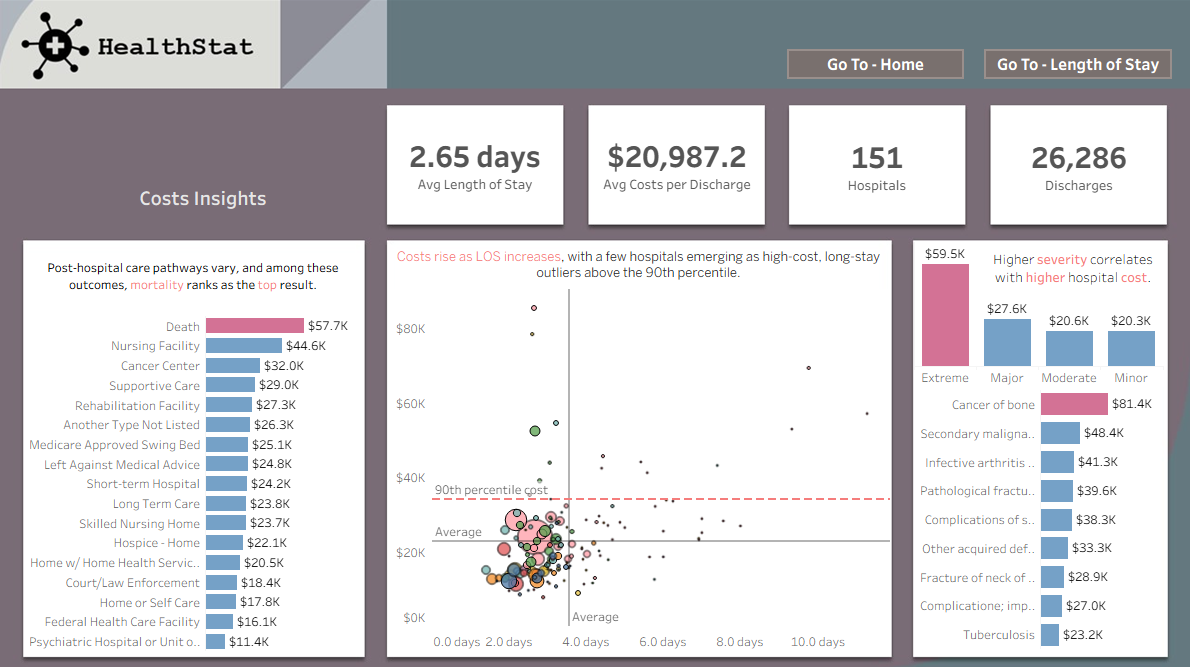

Layout of this report page (visuals, bound fields, positions):
{"tool":"tableau","page":{"name":"Costs Dashboard","canvas":[1200,700],"ordinal":0},"visuals":[{"type":"image","param":"C:/Users/drew_/Desktop/DATA/Data Camp/Data Analyst in Tableau/Learn - Course - P","box":[4,4,1194,690]},{"type":"legend","title":"Quadrant Chart","param":"[federated.0fxm5sd0du2w4c1f8f5pv1r6fbfv].[__tableau_internal_object_id__].[cnt:p","box":[1032,8,160,146]},{"type":"dashboard-object","box":[793,63,177,30]},{"type":"dashboard-object","box":[990,63,188,30]},{"type":"worksheet","title":"Avg LOS","mark":"Automatic","box":[395,121,172,115]},{"type":"worksheet","title":"Avg Cost Per Discharge","mark":"Automatic","box":[597,121,172,115]},{"type":"worksheet","title":"Total num of hosp","mark":"Automatic","box":[797,122,172,115]},{"type":"worksheet","title":"Total num of discharges","mark":"Automatic","box":[999,122,172,115]},{"type":"legend","title":"Quadrant Chart","param":"[federated.0fxm5sd0du2w4c1f8f5pv1r6fbfv].[none:health_service_area:nk]","box":[1032,154,160,186]},{"type":"text","box":[77,191,264,40]},{"type":"text","box":[394,255,501,48]},{"type":"text","box":[30,256,338,68]},{"type":"worksheet","title":"Severity Cost","mark":"Automatic","rows":["total_costs"],"cols":["apr_severity_of_illness_description"],"box":[920,256,250,145]},{"type":"text","box":[988,257,182,49]},{"type":"worksheet","title":"Quadrant Chart","mark":"Circle","rows":["Calculation_0149275867025414"],"cols":["Calculation_0149275883278349"],"box":[394,303,503,367]},{"type":"worksheet","title":"Disposition Cost","mark":"Automatic","rows":["patient_disposition"],"cols":["total_costs"],"box":[30,325,338,345]},{"type":"legend","title":"Severity Cost","param":"[federated.0fxm5sd0du2w4c1f8f5pv1r6fbfv].[avg:total_costs:qk]","box":[1032,340,160,65]},{"type":"worksheet","title":"Diagnosis Cost","mark":"Automatic","rows":["ccs_diagnosis_description"],"cols":["total_costs"],"box":[921,399,249,269]}]}

Visuals, with their boxes on the page's 1200x700 design canvas (x1, y1, x2, y2). These are canvas units, not pixel positions in the 1190x667 screenshot, which may show the page scaled, cropped or inside an application window:
image: [4, 4, 1198, 694]
"Quadrant Chart" legend: [1032, 8, 1192, 154]
dashboard-object: [793, 63, 970, 93]
dashboard-object: [990, 63, 1178, 93]
"Avg LOS" worksheet: [395, 121, 567, 236]
"Avg Cost Per Discharge" worksheet: [597, 121, 769, 236]
"Total num of hosp" worksheet: [797, 122, 969, 237]
"Total num of discharges" worksheet: [999, 122, 1171, 237]
"Quadrant Chart" legend: [1032, 154, 1192, 340]
text: [77, 191, 341, 231]
text: [394, 255, 895, 303]
text: [30, 256, 368, 324]
"Severity Cost" worksheet: [920, 256, 1170, 401]
text: [988, 257, 1170, 306]
"Quadrant Chart" worksheet (Circle marks): [394, 303, 897, 670]
"Disposition Cost" worksheet: [30, 325, 368, 670]
"Severity Cost" legend: [1032, 340, 1192, 405]
"Diagnosis Cost" worksheet: [921, 399, 1170, 668]
